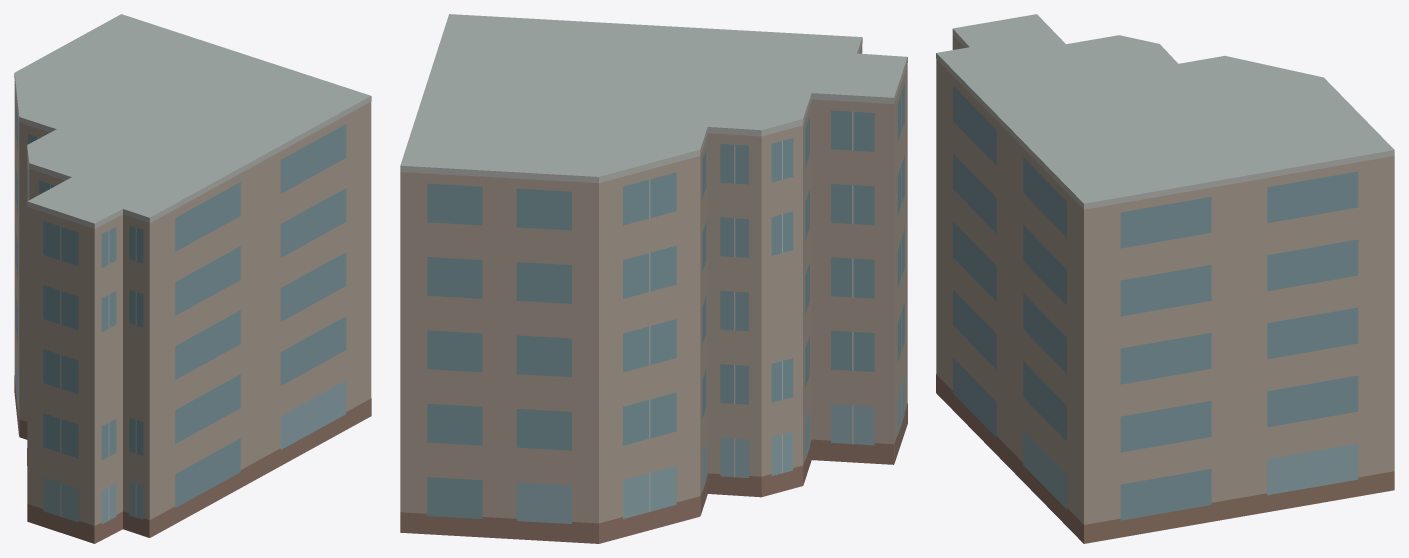
File: survey-upis-33045095.glb
The picture shows the model from 3 angles, left to right: view 1: azimuth 30°, elevation 25°; view 2: azimuth 150°, elevation 25°; view 3: azimuth 270°, elevation 25°; orthographic projection. The views are drawn at different scales.
Parts seen in each view (by area): view 1: survey-upis-33045095.tmp; view 2: survey-upis-33045095.tmp; view 3: survey-upis-33045095.tmp.
Boxes of the visible parts, x1=… form: survey-upis-33045095.tmp: x1=14, y1=14, x2=371, y2=543; survey-upis-33045095.tmp: x1=400, y1=14, x2=907, y2=543; survey-upis-33045095.tmp: x1=936, y1=14, x2=1394, y2=543.
Size of the model in its own units: 17 by 14.2 by 17.36.
